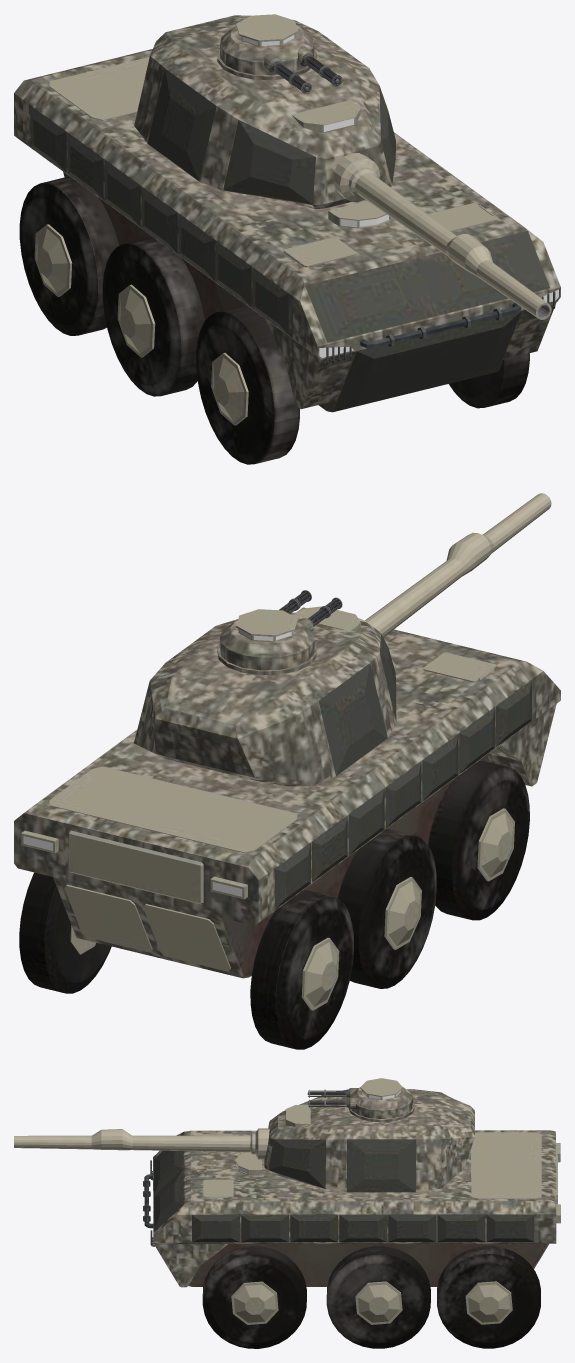
The model's file is blinde_ares.glb.
3 renders of one model, top to bottom at view 1: azimuth 30°, elevation 25°; view 2: azimuth 150°, elevation 25°; view 3: azimuth 270°, elevation 25°, orthographic. The views are drawn at different scales.
Parts seen in each view (by area): view 1: Sphere, Sphere.011, wheel.004, wheel.005, wheel.003, cannon, Sphere.008, wheel.001; view 2: Sphere, Sphere.011, wheel.003, wheel.005, wheel.004, wheel, Sphere.008, cannon; view 3: Sphere, Sphere.011, wheel.001, wheel.002, wheel, cannon, Sphere.008.
Boxes of the visible parts, x1,y1,x2,y2 form: Sphere: (14, 49, 560, 412); Sphere.011: (134, 15, 395, 209); wheel.004: (102, 237, 204, 396); wheel.005: (196, 305, 299, 464); wheel.003: (19, 177, 118, 335); cannon: (333, 153, 551, 319); Sphere.008: (217, 14, 316, 80); wheel.001: (449, 353, 529, 408); Sphere: (14, 607, 560, 978); Sphere.011: (134, 606, 396, 786); wheel.003: (250, 890, 354, 1049); wheel.005: (428, 761, 529, 920); wheel.004: (337, 829, 436, 988); wheel: (19, 872, 111, 993); Sphere.008: (217, 609, 316, 675); cannon: (358, 493, 551, 637); Sphere: (143, 1130, 560, 1287); Sphere.011: (264, 1089, 474, 1192); wheel.001: (202, 1246, 306, 1348); wheel.002: (326, 1246, 430, 1348); wheel: (437, 1246, 540, 1348); cannon: (14, 1128, 269, 1159); Sphere.008: (348, 1078, 414, 1122).
Size of the model in its own units: 0.4347 by 0.4826 by 1.09.
Materials: 4 (1 with a texture image).
